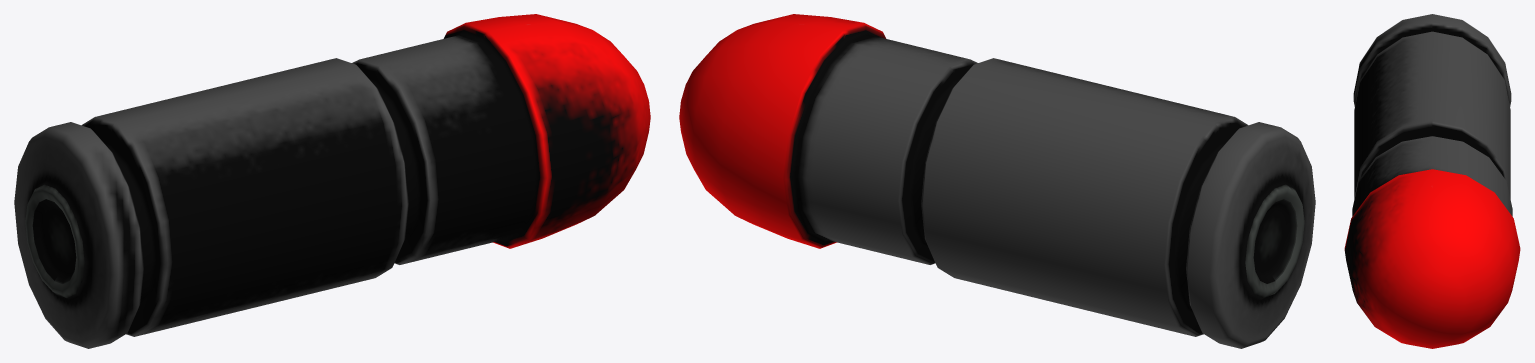
Rendered from SM_GrenadeLauncherProjectile.fbx.
The picture shows the model from 3 angles, left to right: view 1: azimuth 30°, elevation 25°; view 2: azimuth 150°, elevation 25°; view 3: azimuth 270°, elevation 25°; orthographic projection. The views are drawn at different scales.
Parts seen in each view (by area): view 1: ProjectileMesh; view 2: ProjectileMesh; view 3: ProjectileMesh.
Boxes of the visible parts, left/top/right/bottom form: ProjectileMesh: left=14, top=14, right=650, bottom=348; ProjectileMesh: left=679, top=14, right=1315, bottom=348; ProjectileMesh: left=1344, top=14, right=1520, bottom=348.
Bounding box in the file's own units: 12.28 × 4.2 × 4.2.
Materials: 1 (1 with a texture image).
